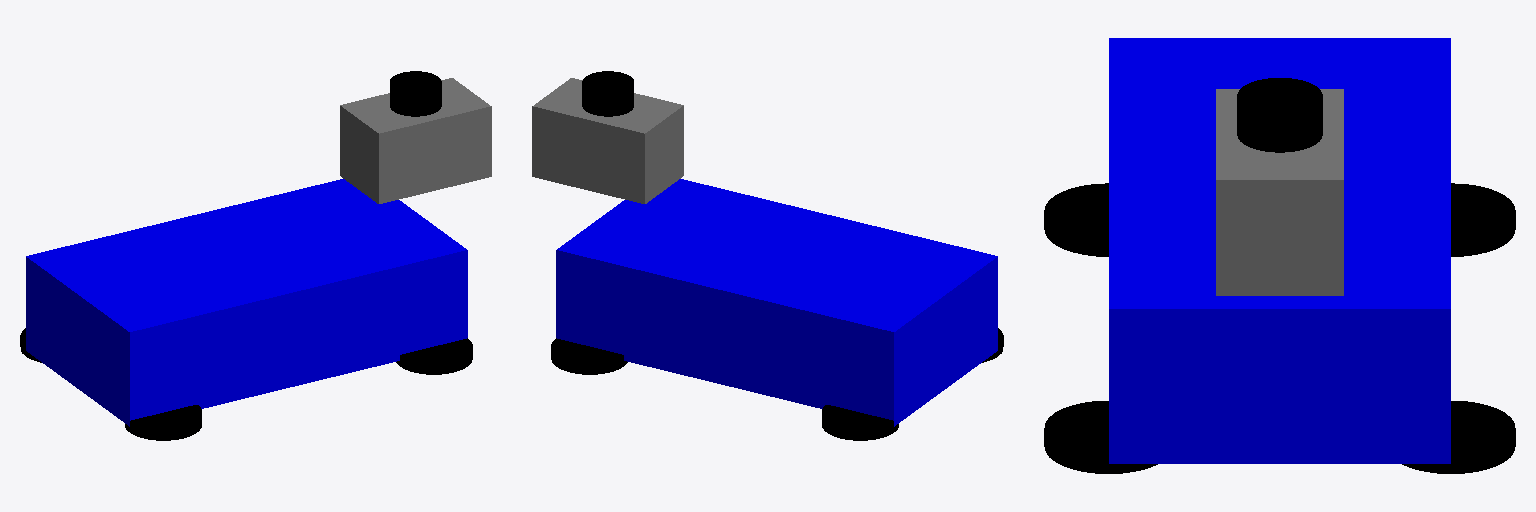
robot.urdf — my_car:
<?xml version="1.0"?>
<robot name="my_car">

  <!-- Base of the car -->
  <link name="base_link">
    <visual>
      <geometry>
        <box size="1.5 0.8 0.4"/> <!-- Car body size -->
      </geometry>
      <material name="blue">
        <color rgba="0.0 0.0 1.0 1.0"/>
      </material>
    </visual>
  </link>

  <!-- Front Left Wheel -->
  <link name="front_left_wheel">
    <visual>
      <geometry>
        <cylinder radius="0.15" length="0.05"/> 
      </geometry>
      <material name="black">
        <color rgba="0.0 0.0 0.0 1.0"/>
      </material>
    </visual>
  </link>

  <!-- Front Right Wheel -->
  <link name="front_right_wheel">
    <visual>
      <geometry>
        <cylinder radius="0.15" length="0.05"/> 
      </geometry>
      <material name="black">
        <color rgba="0.0 0.0 0.0 1.0"/>
      </material>
    </visual>
  </link>

  <!-- Rear Left Wheel -->
  <link name="rear_left_wheel">
    <visual>
      <geometry>
        <cylinder radius="0.15" length="0.05"/> 
      </geometry>
      <material name="black">
        <color rgba="0.0 0.0 0.0 1.0"/>
      </material>
    </visual>
  </link>

  <!-- Rear Right Wheel -->
  <link name="rear_right_wheel">
    <visual>
      <geometry>
        <cylinder radius="0.15" length="0.05"/> 
      </geometry>
      <material name="black">
        <color rgba="0.0 0.0 0.0 1.0"/>
      </material>
    </visual>
  </link>

  <!-- Camera Module (Face) -->
  <link name="camera_module">
    <visual>
      <geometry>
        <box size="0.5 0.3 0.3"/> <!-- Face-like box -->
      </geometry>
      <material name="grey">
        <color rgba="0.5 0.5 0.5 1.0"/>
      </material>
    </visual>
  </link>

  <!-- Camera Lens -->
  <link name="camera_lens">
    <visual>
      <geometry>
        <cylinder radius="0.1" length="0.2"/> <!-- Lens size -->
      </geometry>
      <material name="black">
        <color rgba="0.0 0.0 0.0 1.0"/>
      </material>
    </visual>
  </link>

  <!-- Joints -->
  <joint name="front_left_wheel_joint" type="continuous">
    <parent link="base_link"/>
    <child link="front_left_wheel"/>
    <origin xyz="-0.6 0.4 -0.2"/>
    <axis xyz="1 0 0"/> <!-- Make wheel stand vertically -->
  </joint>

  <joint name="front_right_wheel_joint" type="continuous">
    <parent link="base_link"/>
    <child link="front_right_wheel"/>
    <origin xyz="-0.6 -0.4 -0.2"/>
    <axis xyz="1 0 0"/> <!-- Make wheel stand vertically -->
  </joint>

  <joint name="rear_left_wheel_joint" type="continuous">
    <parent link="base_link"/>
    <child link="rear_left_wheel"/>
    <origin xyz="0.6 0.4 -0.2"/>
    <axis xyz="1 0 0"/> <!-- Make wheel stand vertically -->
  </joint>

  <joint name="rear_right_wheel_joint" type="continuous">
    <parent link="base_link"/>
    <child link="rear_right_wheel"/>
    <origin xyz="0.6 -0.4 -0.2"/>
    <axis xyz="1 0 0"/> <!-- Make wheel stand vertically -->
  </joint>

  <!-- Joint for Camera Module -->
  <joint name="camera_module_joint" type="fixed">
    <parent link="base_link"/>
    <child link="camera_module"/>
    <origin xyz="0.75 0 0.5" rpy="0 0 0"/> <!-- Mounted on top -->
  </joint>

  <!-- Joint for Camera Lens -->
  <joint name="camera_lens_joint" type="fixed">
    <parent link="camera_module"/>
    <child link="camera_lens"/>
    <origin xyz="0 0 0.15" rpy="0 0 0"/> <!-- Lens centered in the module -->
  </joint>

</robot>

--- Render facts (derived) ---
3 views of the same robot in one strip: view 1: azimuth 30°, elevation 25°; view 2: azimuth 150°, elevation 25°; view 3: azimuth 270°, elevation 25° (orthographic).
Model my_car with 7 links and 6 joints (4 continuous, 2 fixed), rooted at base_link, posed every joint at zero.
Links seen in each view (by area): view 1: base_link, camera_module, camera_lens, front_right_wheel, rear_right_wheel; view 2: base_link, camera_module, camera_lens, front_left_wheel, rear_left_wheel; view 3: base_link, camera_module, camera_lens, rear_left_wheel, rear_right_wheel, front_left_wheel, front_right_wheel.
Boxes of the visible links, x1,y1,x2,y2 form: base_link: (26, 179, 467, 426); camera_module: (340, 78, 491, 203); camera_lens: (390, 71, 441, 116); front_right_wheel: (125, 405, 201, 440); rear_right_wheel: (396, 338, 472, 374); base_link: (556, 179, 997, 426); camera_module: (532, 78, 683, 203); camera_lens: (582, 71, 633, 116); front_left_wheel: (822, 405, 898, 440); rear_left_wheel: (551, 338, 627, 374); base_link: (1109, 38, 1450, 463); camera_module: (1216, 89, 1343, 295); camera_lens: (1237, 78, 1322, 152); rear_left_wheel: (1402, 401, 1515, 473); rear_right_wheel: (1044, 401, 1157, 473); front_left_wheel: (1451, 183, 1515, 256); front_right_wheel: (1044, 183, 1108, 256).
Bounding box of the posed robot: 1.75 × 1.1 × 0.975 m (x, y, z).
Geometry: primitives only (box / cylinder / sphere), no mesh files.
